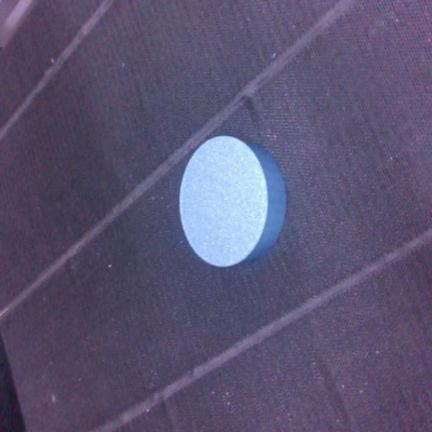cylinder: (180, 136, 286, 267)
